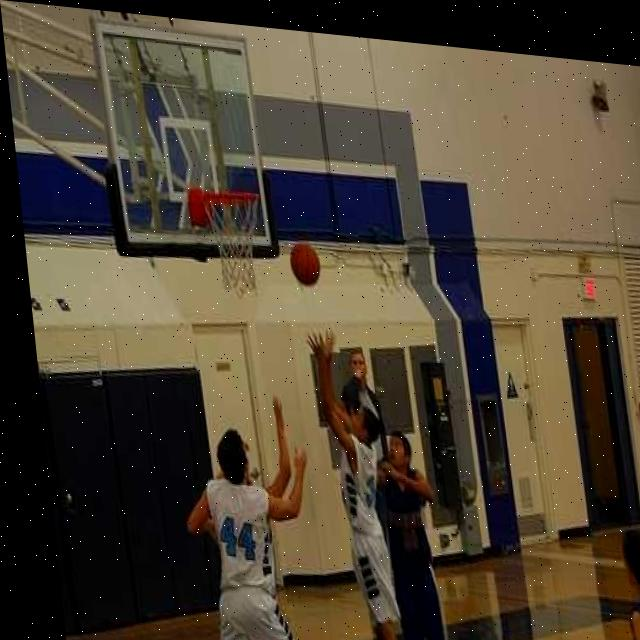basketball: (288, 240, 323, 289)
hoop: (200, 181, 271, 297)
